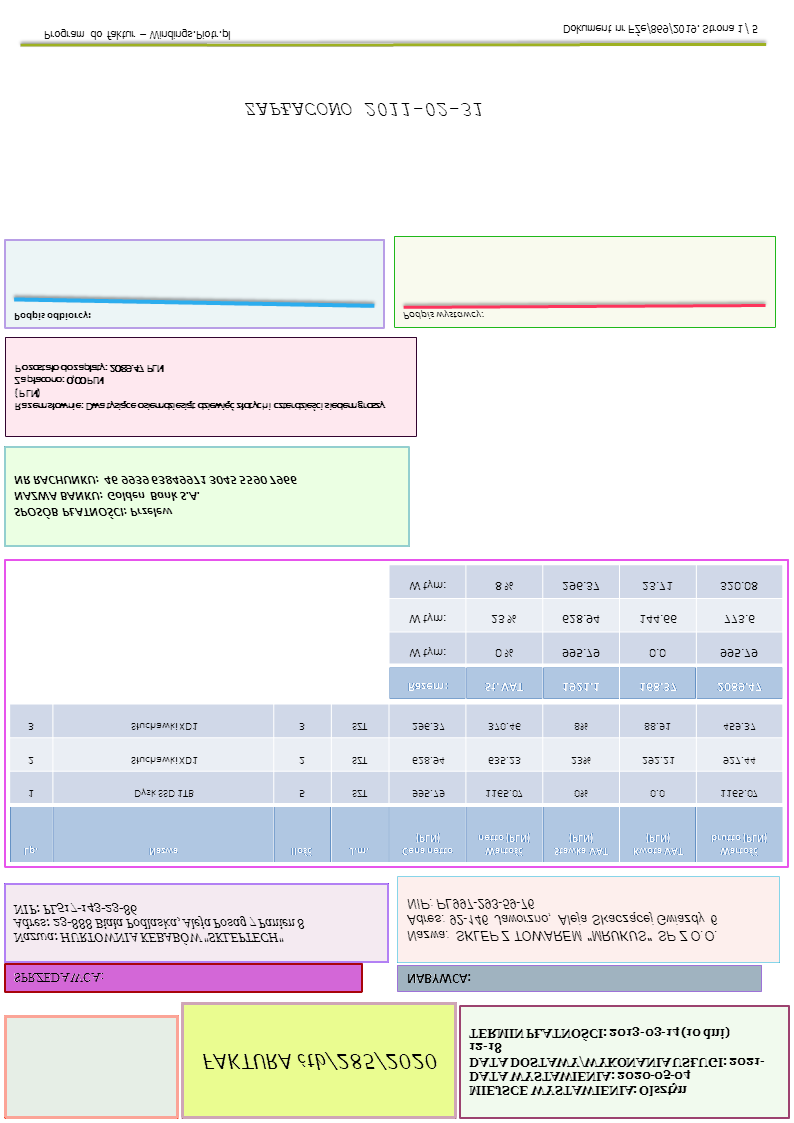Table: (8, 703, 782, 863), (387, 564, 784, 701)
TextBox: (467, 1025, 766, 1098), (11, 362, 388, 414), (405, 895, 720, 945), (12, 472, 299, 521), (11, 901, 304, 946), (200, 1048, 438, 1075), (243, 98, 485, 118), (560, 17, 759, 38), (41, 26, 232, 42), (11, 969, 106, 985), (10, 308, 96, 323), (405, 969, 472, 986), (401, 308, 485, 321)
